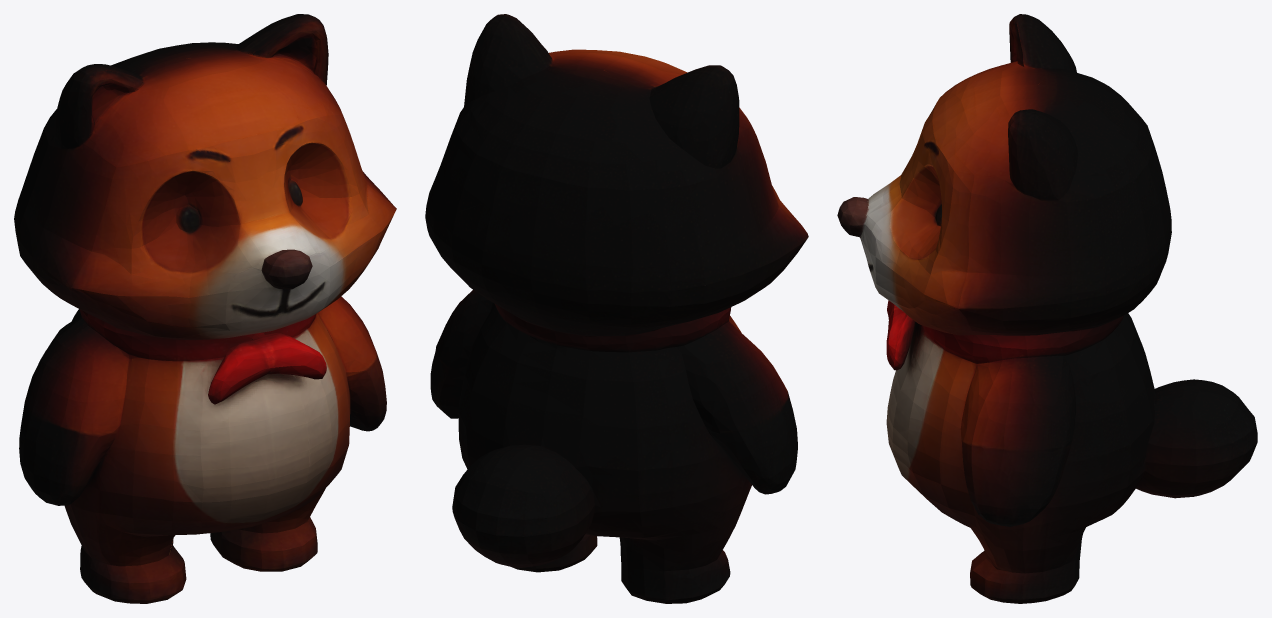
3 views of the same model, side by side, from view 1: azimuth 30°, elevation 25°; view 2: azimuth 150°, elevation 25°; view 3: azimuth 270°, elevation 25° (orthographic). The views are drawn at different scales.
Visible parts, largest first — view 1: world; view 2: world; view 3: world.
Boxes of the visible parts, x1,y1,x2,y2 form: world: (14,14,396,603); world: (425,14,808,603); world: (837,14,1257,603).
Size of the model in its own units: 0.5113 by 0.7438 by 0.5739.
Materials: 1 (1 with a texture image).
